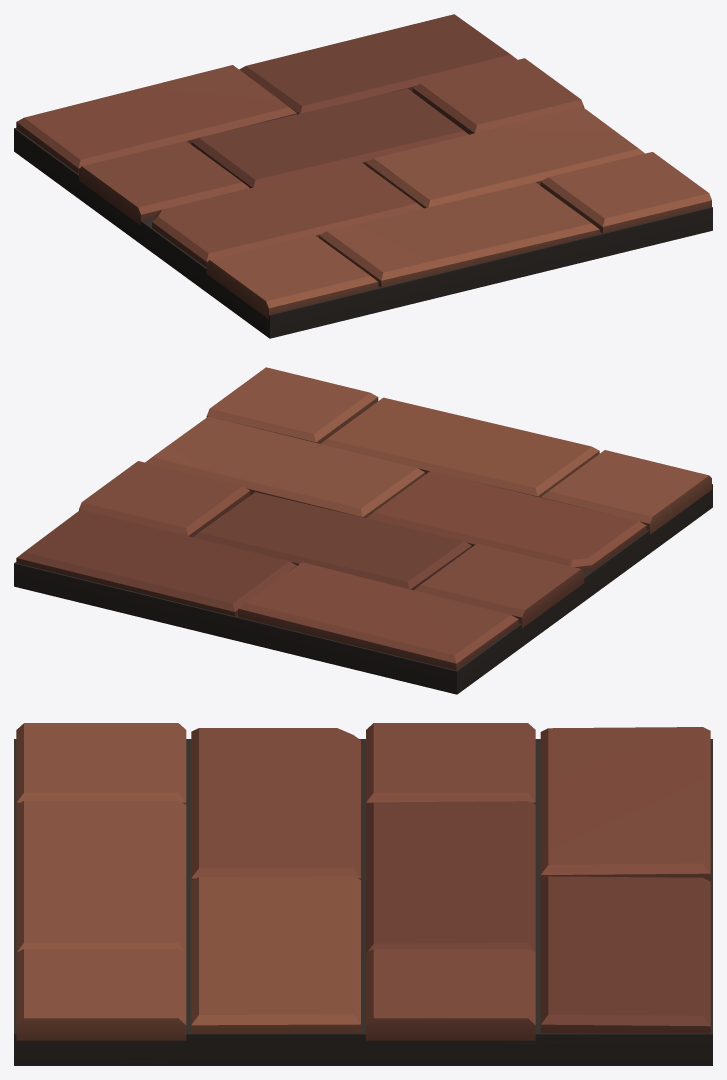
Rendered from floor_bricks_small_A.glb.
3 renders of one model, top to bottom at view 1: azimuth 30°, elevation 25°; view 2: azimuth 150°, elevation 25°; view 3: azimuth 270°, elevation 25°, orthographic. The views are drawn at different scales.
Visible parts, largest first — view 1: Item; view 2: Item; view 3: Item.
Boxes of the visible parts, x1=… form: Item: x1=14, y1=14, x2=712, y2=338; Item: x1=14, y1=367, x2=712, y2=694; Item: x1=14, y1=723, x2=712, y2=1065.
Size of the model in its own units: 2 by 0.1589 by 2.
Materials: 1 (1 with a texture image).
